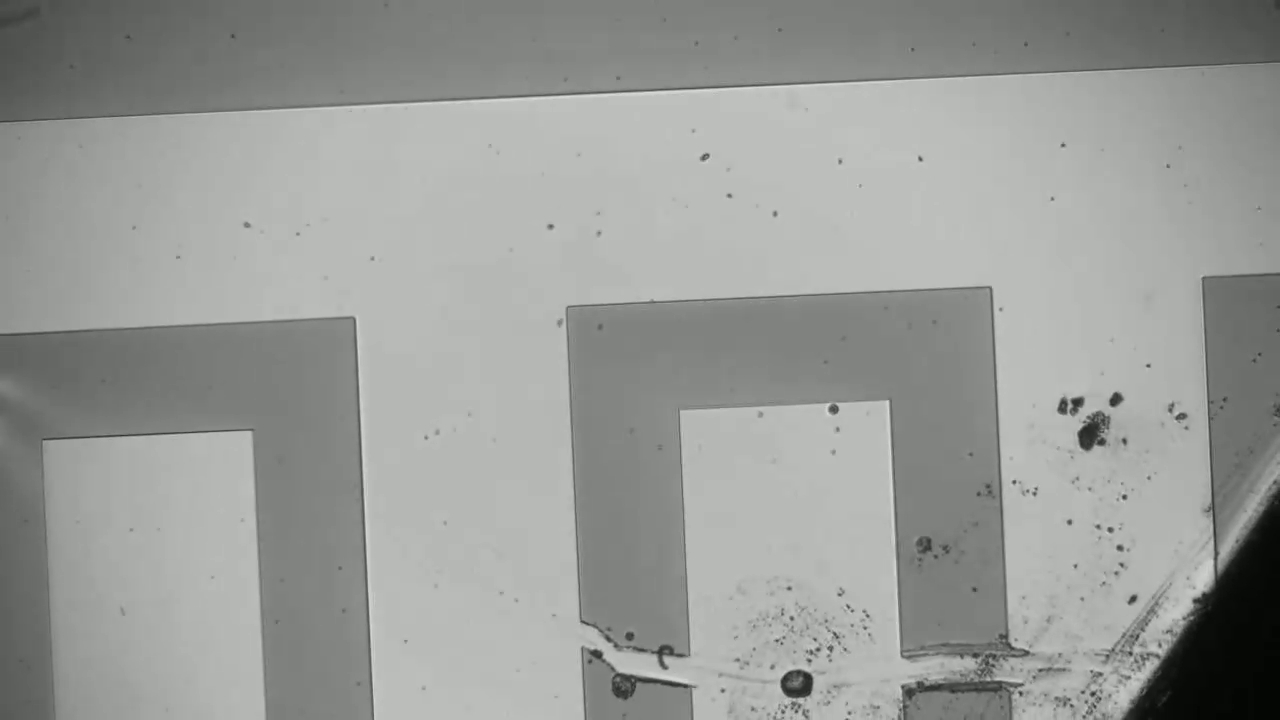Short_circuit: (543, 590, 708, 705), (878, 618, 1041, 705)
